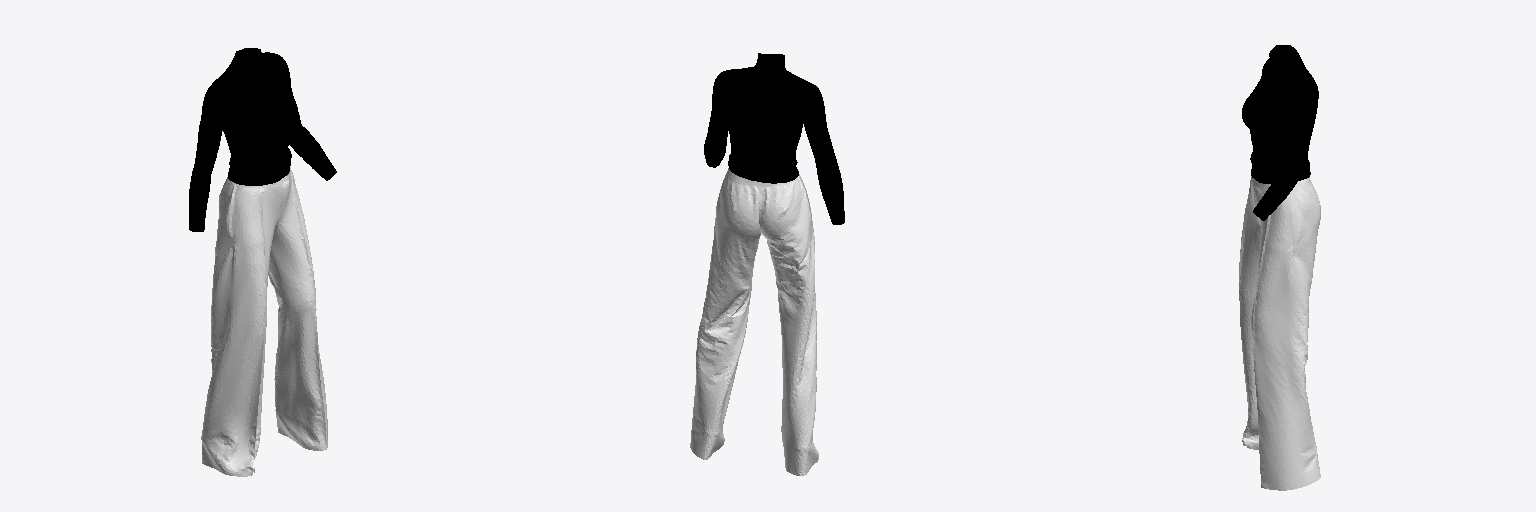
Rendered from DA_HighNeck+WidePants_0000113.obj.
3 views of the same model, side by side, from view 1: azimuth 30°, elevation 25°; view 2: azimuth 150°, elevation 25°; view 3: azimuth 270°, elevation 25° (orthographic).
Bounding box in the file's own units: 0.5987 × 1.64 × 0.2978.